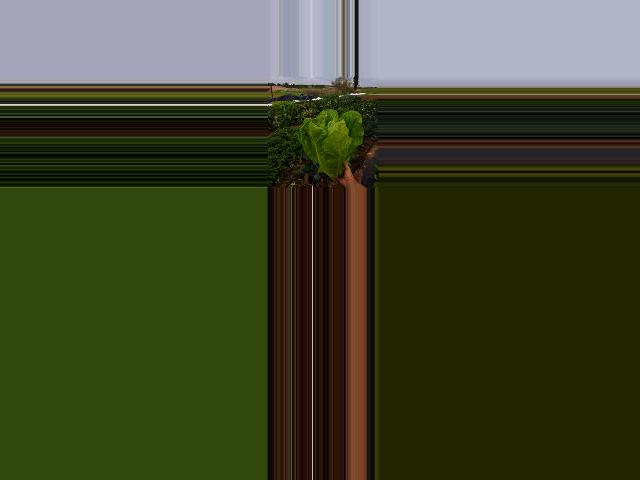lettuce: (296, 108, 367, 182)
